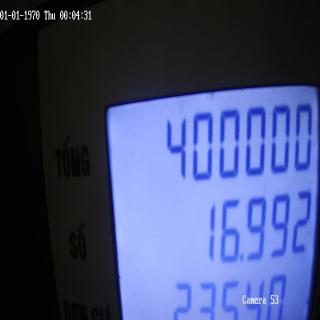screen: (97, 64, 319, 320)
